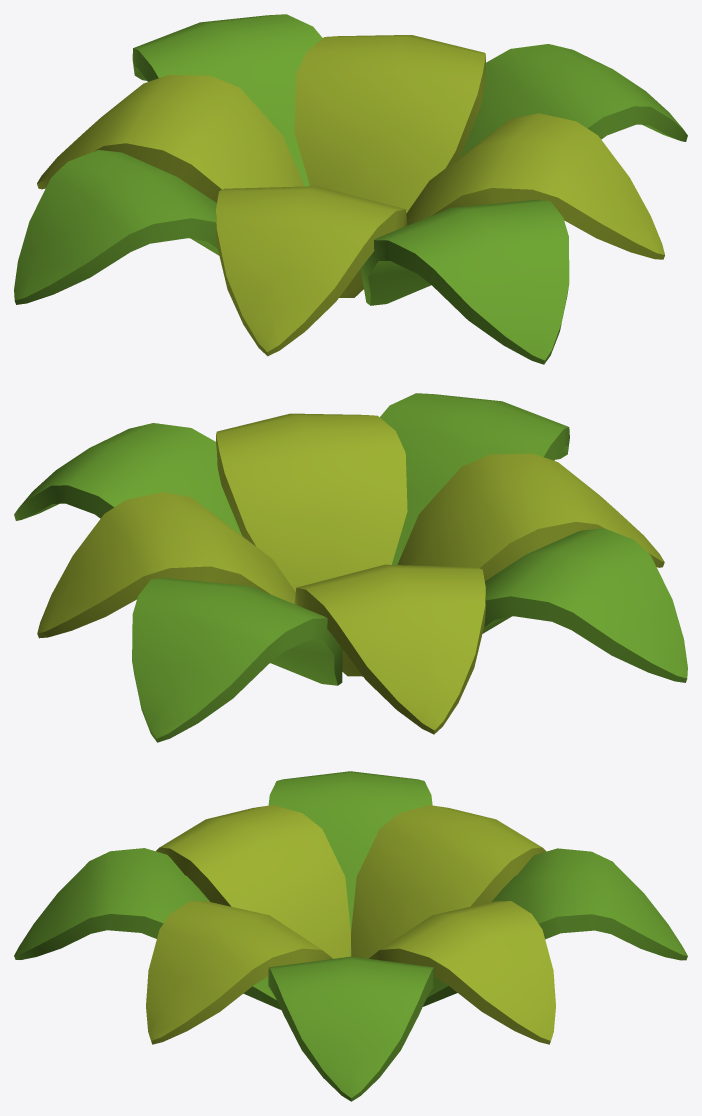
The model's file is Plant_Large.gltf.
3 views of the same model, one above another, from view 1: azimuth 30°, elevation 25°; view 2: azimuth 150°, elevation 25°; view 3: azimuth 270°, elevation 25° (orthographic). The views are drawn at different scales.
Parts seen in each view (by area): view 1: Plant_Large; view 2: Plant_Large; view 3: Plant_Large.
Part boxes in pixels (left/top/right/bottom): Plant_Large: left=14, top=14, right=687, bottom=364; Plant_Large: left=14, top=393, right=687, bottom=742; Plant_Large: left=14, top=771, right=687, bottom=1101.
Bounding box in the file's own units: 1.7 × 0.3904 × 1.7.
